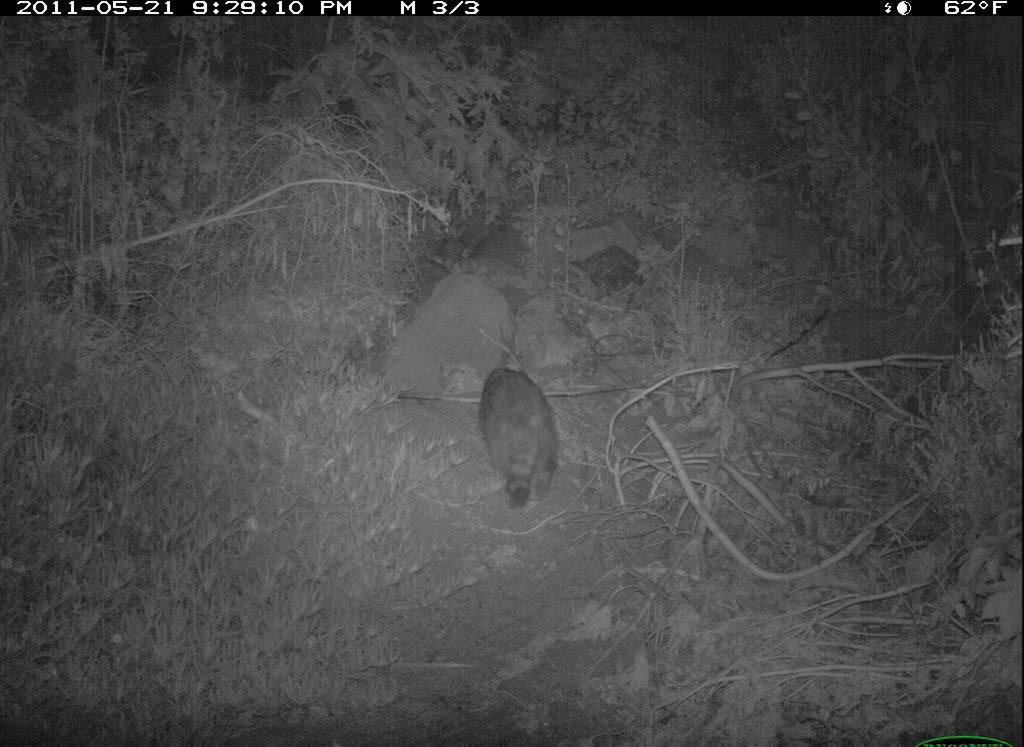raccoon: (481, 362, 563, 515)
